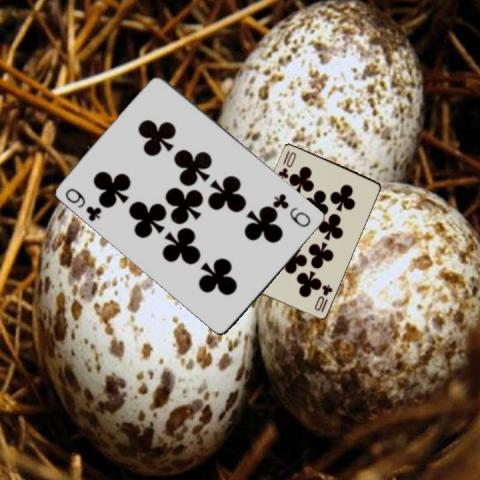10c: (311, 282, 334, 314), (276, 147, 298, 180)
9c: (271, 190, 313, 229), (62, 184, 103, 222)
